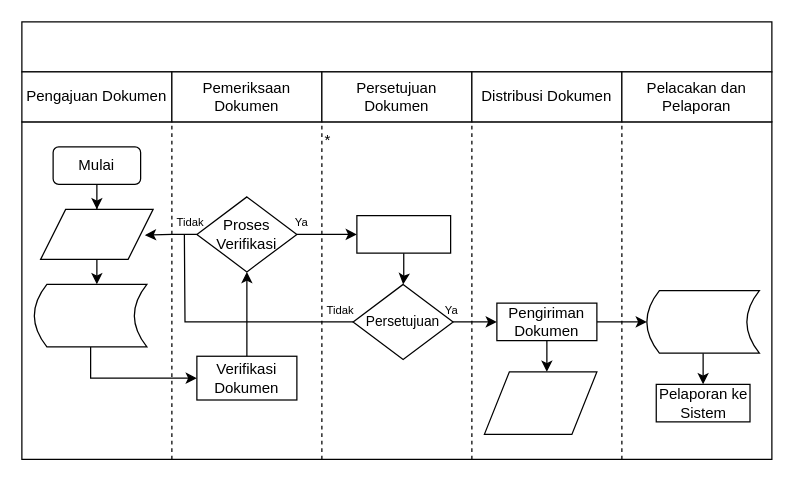
The diagram is 794 pixels wide and 483 high, and some of its shapes have lost their labels. Each missing label, with the box of its shape:
Database Dokumen: (646, 289, 759, 353)
Dokumen Storage: (33, 283, 147, 347)
Pengiriman Dokumen ke Klien: (483, 371, 597, 434)
Persetujuan Dokumen: (356, 214, 451, 253)
TINJAUAN BISNIS OPERATION SAAT INI: (21, 21, 772, 72)
Upload Dokumen: (39, 208, 153, 259)
